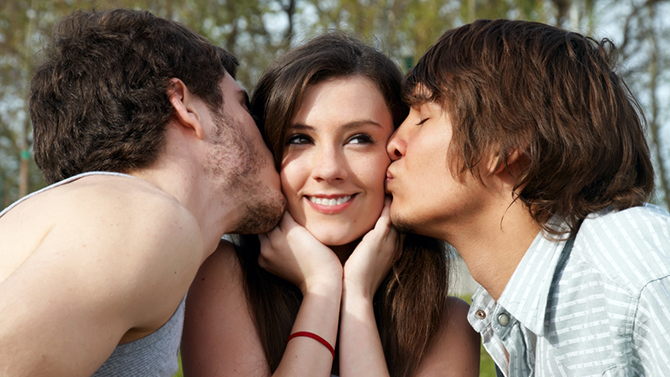without_mask: (179, 68, 286, 224), (286, 109, 375, 237), (390, 102, 470, 218)
